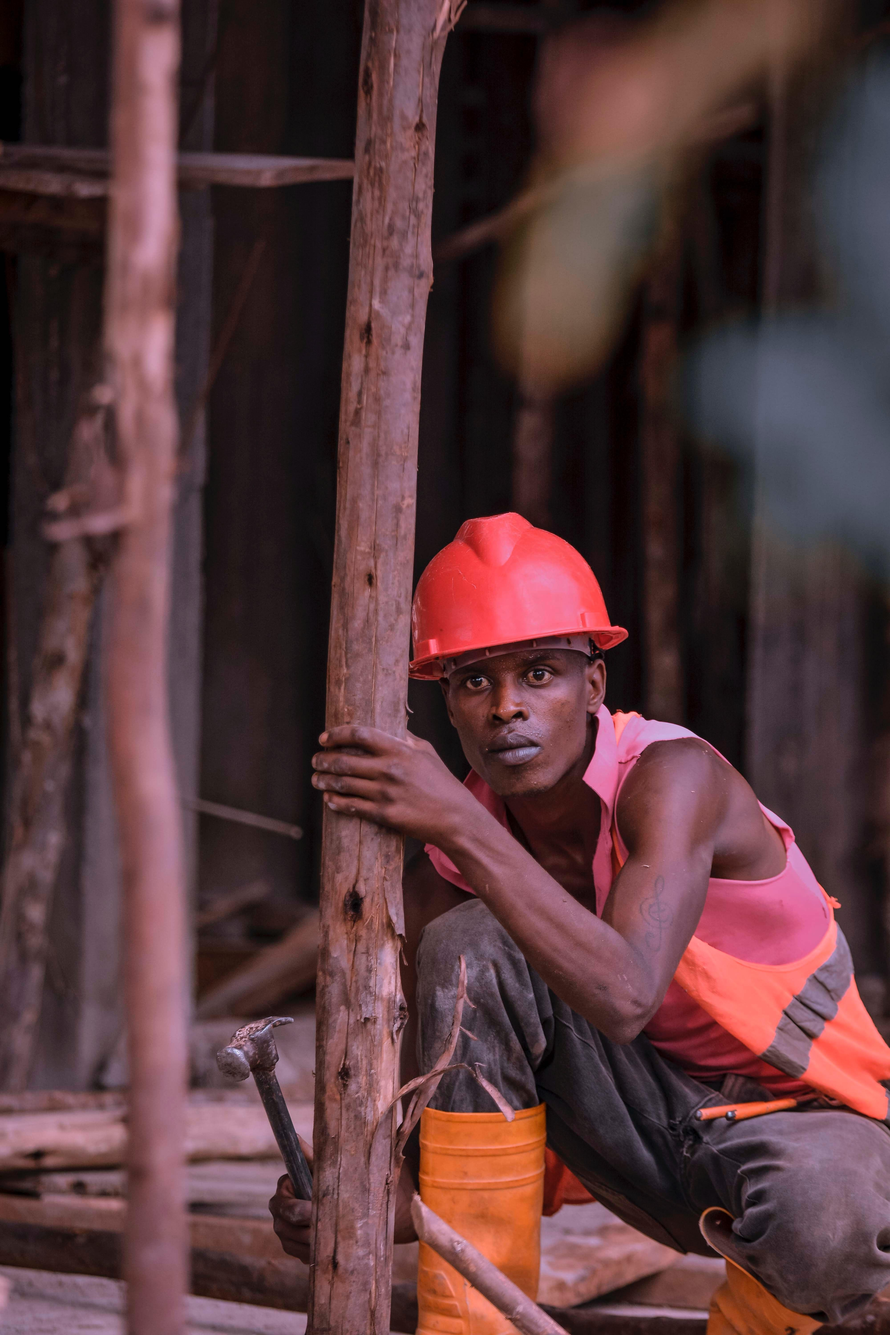Helmet: (395, 516, 671, 682)
